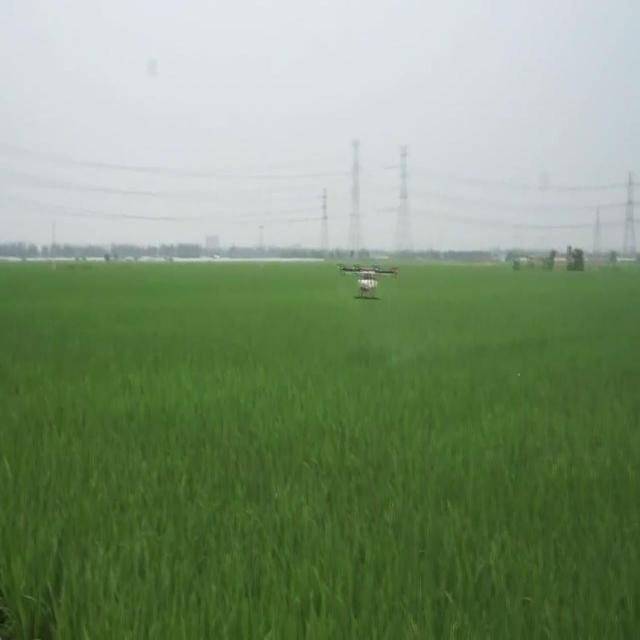UAV: (336, 263, 400, 300)
